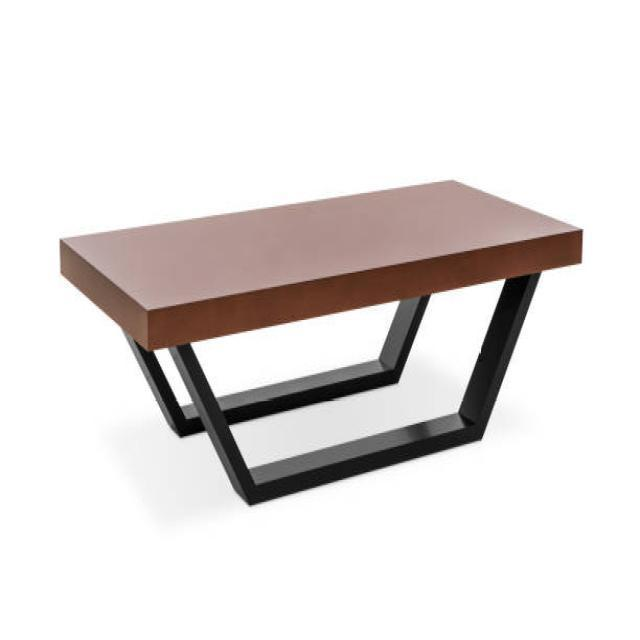table: (58, 175, 582, 506)
